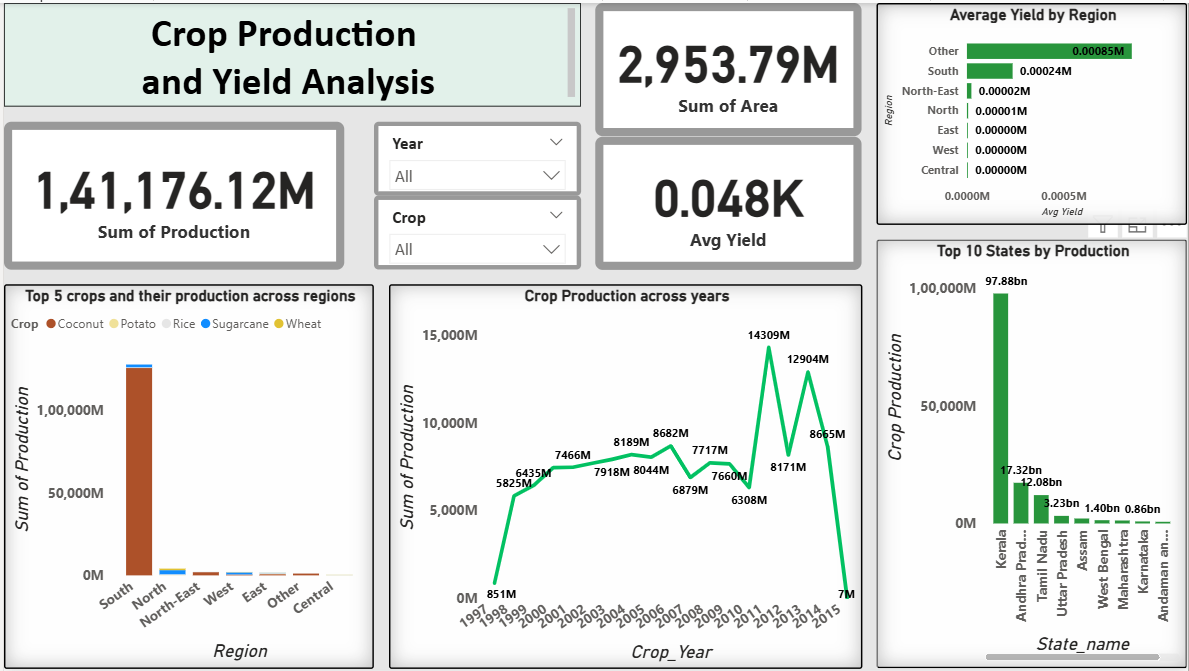

What the dashboard file says about the page in this screenshot:
{"tool":"powerbi","page":{"name":"Dashboard","canvas":[1280,720],"ordinal":0},"visuals":[{"type":"columnChart","title":"Top 10 States by Production","fields":{"Category":["Crop_prod_study.State_Name"],"Y":["Sum(Crop_prod_study.Production)"]},"box":[944,256,336,464],"z":0},{"type":"lineChart","title":"Crop Production across years","fields":{"Category":["Crop_prod_study.Crop_Year"],"Y":["Sum(Crop_prod_study.Production)"]},"box":[416,304,512,416],"z":1000},{"type":"barChart","title":"Average Yield by Region","fields":{"Category":["Crop_prod_study.Region"],"Y":["Crop_prod_study.Avg Yield"]},"box":[944,0,336,240],"z":2000},{"type":"lineStackedColumnComboChart","title":"Top 5 crops and their production across regions","fields":{"Series":["Crop_prod_study.Crop"],"Category":["Crop_prod_study.Region"],"Y":["Sum(Crop_prod_study.Production)"]},"box":[0,304,400,416],"z":3000},{"type":"card","fields":{"Values":["Sum(Crop_prod_study.Production)"]},"box":[0,128,368,160],"z":4000},{"type":"card","fields":{"Values":["Crop_prod_study.Avg Yield"]},"box":[640,144,288,144],"z":5000},{"type":"textbox","box":[0,0,624,112],"z":6000},{"type":"card","fields":{"Values":["Sum(Crop_prod_study.Area)"]},"box":[640,0,288,144],"z":7000},{"type":"slicer","fields":{"Values":["Crop_prod_study.Crop_Year"]},"box":[400,128,224,80],"z":8000},{"type":"slicer","fields":{"Values":["Crop_prod_study.Crop"]},"box":[400,208,224,80],"z":9000}]}

Visuals, with their boxes in screenshot pixels (x1, y1, x2, y2), scaled from the page's 1280x720 canvas onto the 1189x671 screenshot:
"Top 10 States by Production" columnChart: [877,239,1188,670]
"Crop Production across years" lineChart: [386,283,862,670]
"Average Yield by Region" barChart: [877,0,1188,224]
"Top 5 crops and their production across regions" lineStackedColumnComboChart: [0,283,372,670]
card - Sum(Crop_prod_study.Production): [0,119,342,268]
card - Crop_prod_study.Avg Yield: [594,134,862,268]
textbox: [0,0,580,104]
card - Sum(Crop_prod_study.Area): [594,0,862,134]
slicer - Crop_prod_study.Crop_Year: [372,119,580,194]
slicer - Crop_prod_study.Crop: [372,194,580,268]
